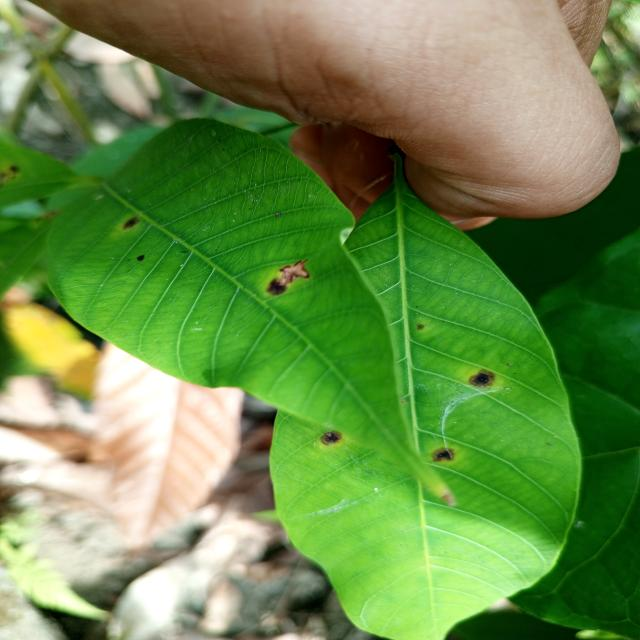Colletotrichum: (469, 370, 494, 387), (432, 448, 455, 462), (320, 430, 342, 444), (136, 255, 145, 261)
Leaf-Blight: (277, 262, 308, 285)
